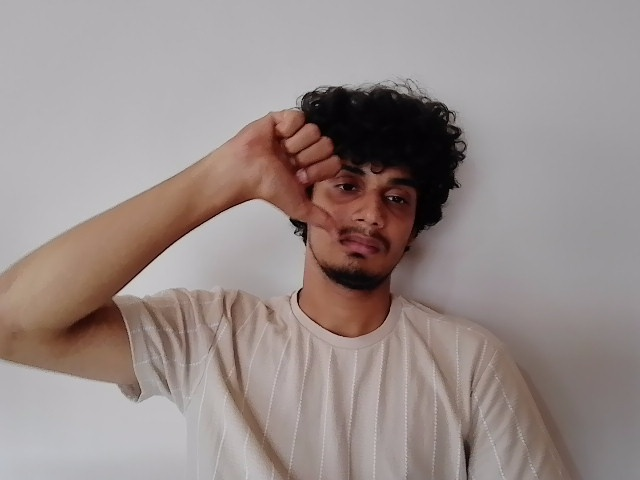drink: (234, 106, 431, 281)
